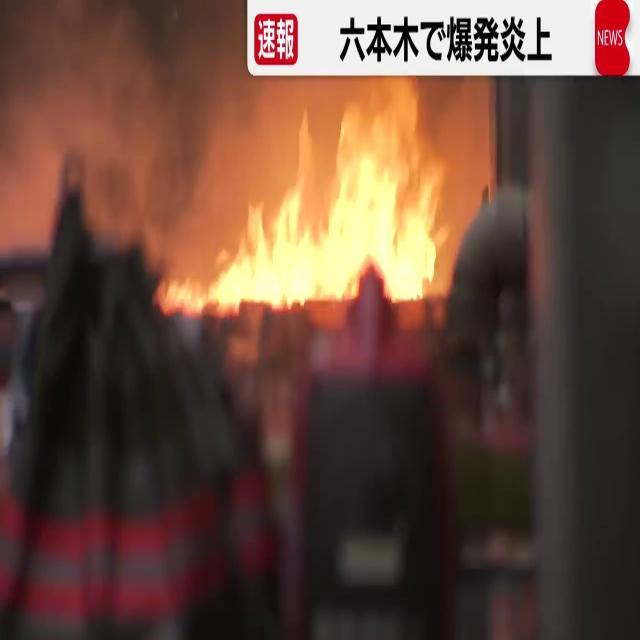Fire: (177, 79, 490, 333)
Smoke: (0, 0, 238, 262)
